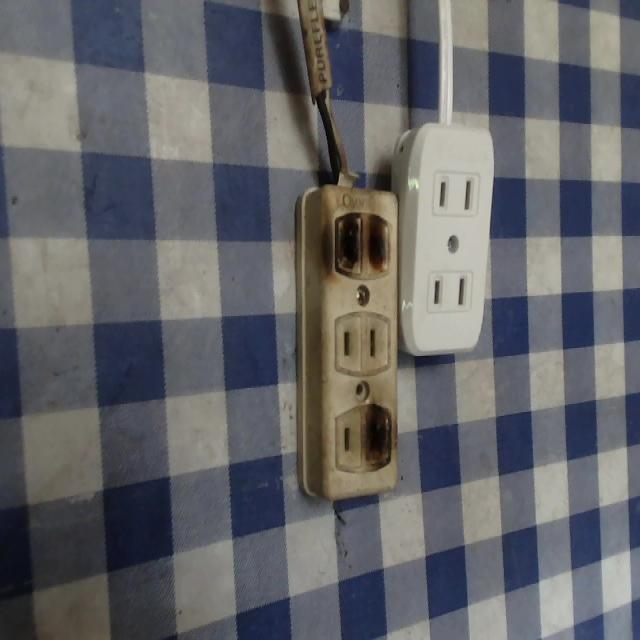-: (327, 207, 393, 281), (359, 404, 395, 473)
